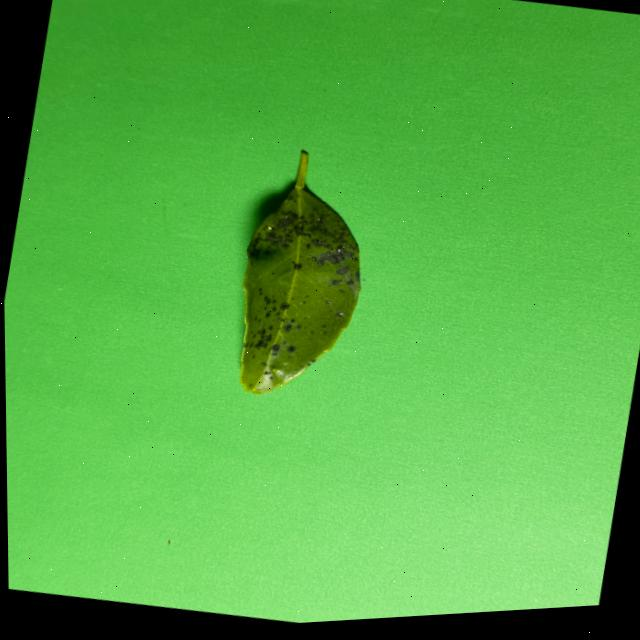sooty_mold: (239, 152, 359, 392)
